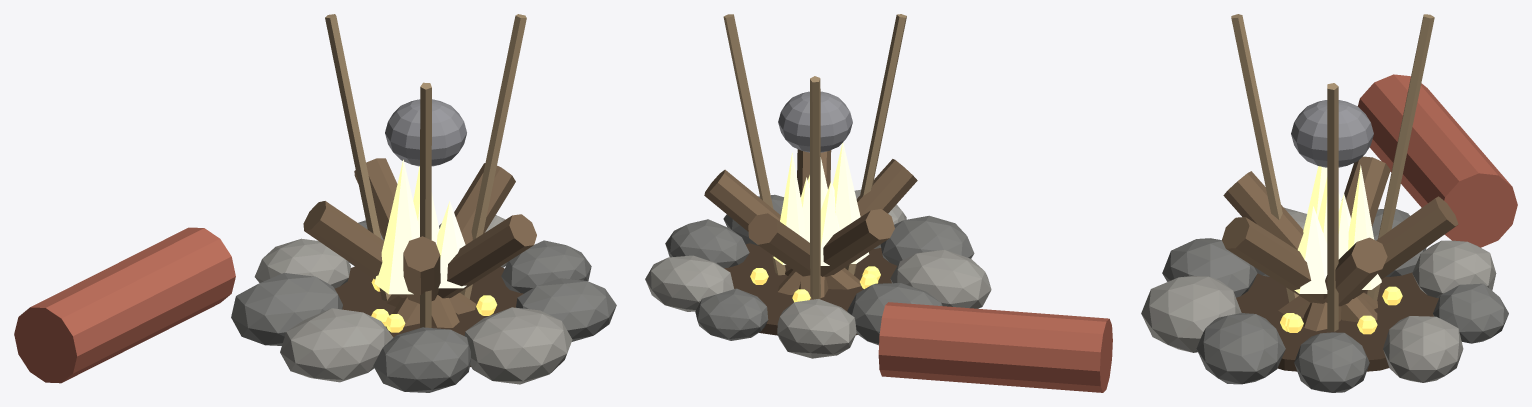
The model's file is campfire.glb.
The picture shows the model from 3 angles, left to right: view 1: azimuth 30°, elevation 25°; view 2: azimuth 150°, elevation 25°; view 3: azimuth 270°, elevation 25°; orthographic projection. The views are drawn at different scales.
Visible parts, largest first — view 1: campfire; view 2: campfire; view 3: campfire.
Part boxes in pixels (<box>): campfire: <box>14,14,616,392</box>; campfire: <box>645,14,1112,392</box>; campfire: <box>1141,14,1517,392</box>.
Size of the model in its own units: 1.46 by 0.8092 by 0.9075.
